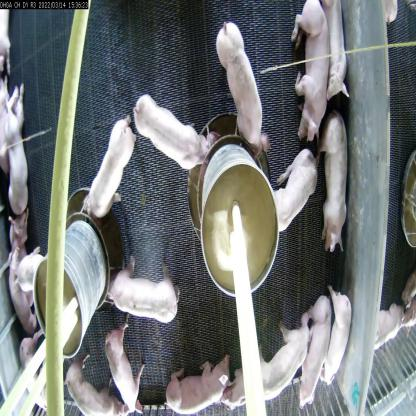Pig: (209, 17, 267, 167), (134, 92, 202, 194), (316, 101, 365, 239), (82, 117, 137, 231), (113, 263, 190, 338), (289, 0, 330, 139), (250, 331, 320, 408), (296, 292, 338, 412), (164, 357, 243, 415), (0, 99, 34, 228), (314, 0, 350, 109), (101, 312, 140, 404), (327, 286, 359, 393), (278, 140, 312, 231), (218, 361, 270, 416), (70, 354, 113, 416)
